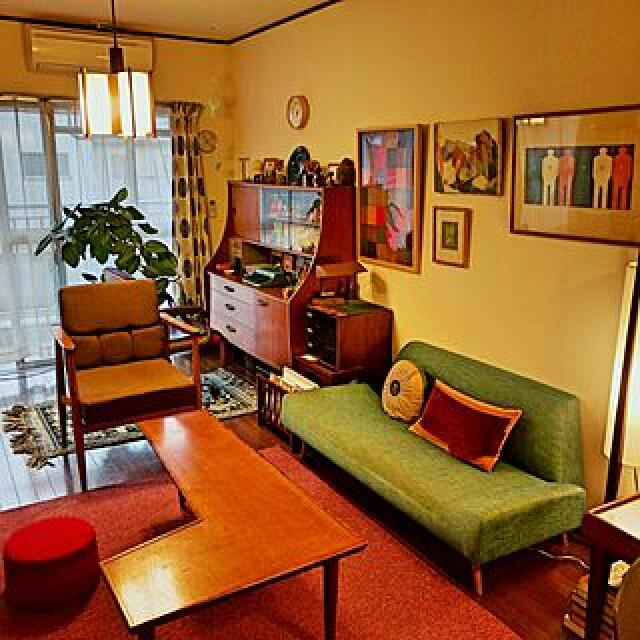vintage chair: (42, 282, 208, 493)
vintage desk: (95, 411, 358, 630)
vintage sofa: (277, 346, 612, 597)
